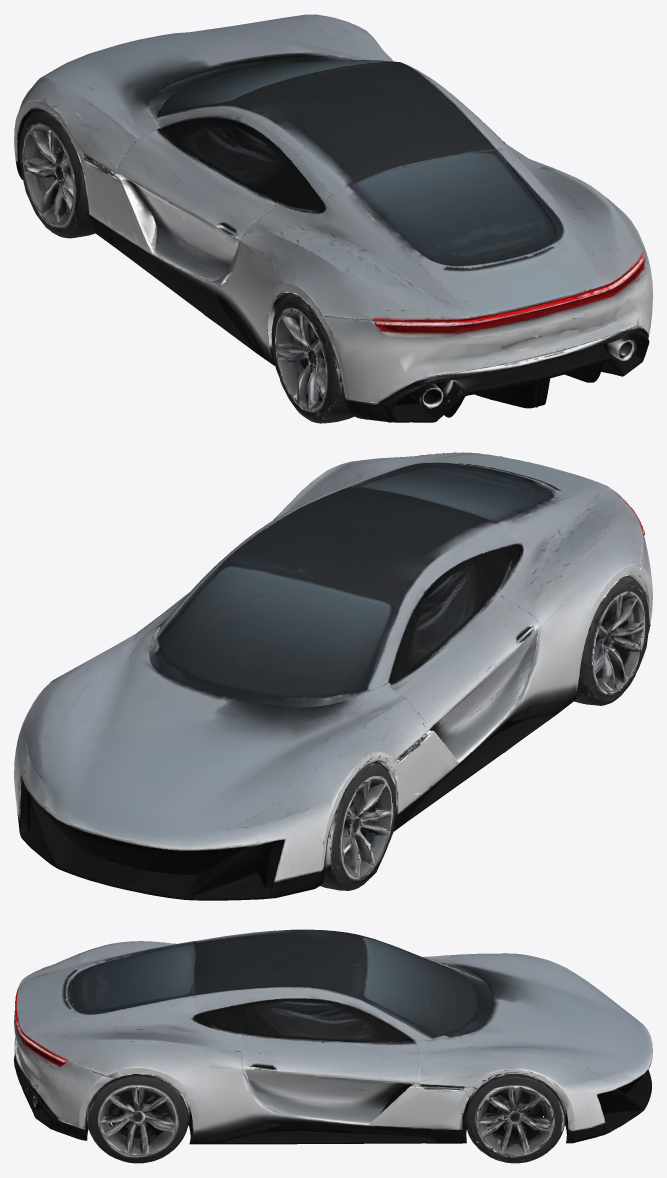
The model's file is roadster_desktop.glb.
The picture shows the model from 3 angles, top to bottom: view 1: azimuth 30°, elevation 25°; view 2: azimuth 150°, elevation 25°; view 3: azimuth 270°, elevation 25°; orthographic projection. The views are drawn at different scales.
Parts seen in each view (by area): view 1: body, wheel_FL, wheel_RL; view 2: body, wheel_FL, wheel_RL; view 3: body, wheel_RR, wheel_FR.
Part boxes in pixels (box(x1,y1,x2,y2)): body: box(14, 14, 652, 423); wheel_FL: box(19, 106, 135, 238); wheel_RL: box(271, 290, 390, 422); body: box(14, 452, 652, 900); wheel_FL: box(329, 756, 398, 889); wheel_RL: box(563, 565, 649, 705); body: box(14, 929, 652, 1163); wheel_RR: box(88, 1073, 189, 1163); wheel_FR: box(462, 1070, 563, 1162).
Bounding box in the file's own units: 1.82 × 1.12 × 4.2.
1 material, 1 textured.
